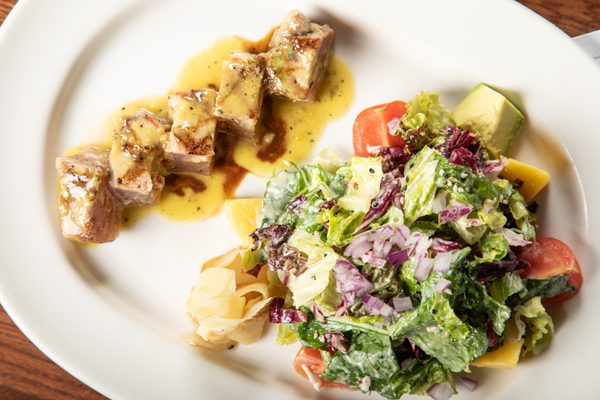curry: (1, 0, 600, 396)
pizza: (352, 100, 409, 157)
